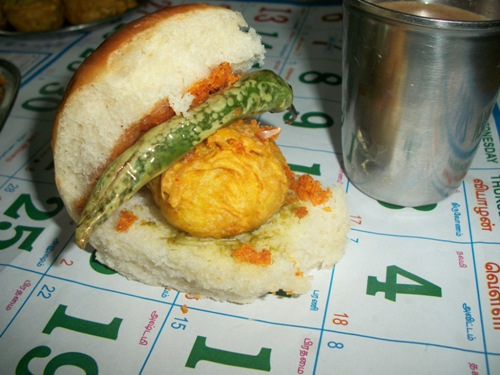vada pav: (107, 36, 260, 268)
